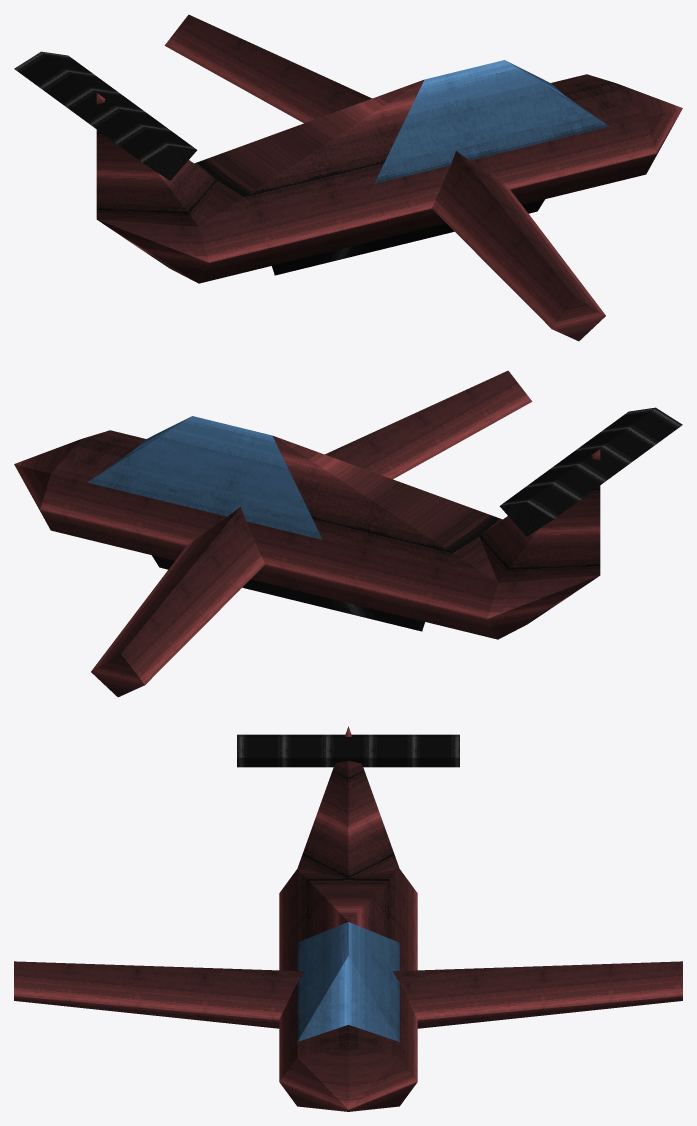
3 renders of one model, top to bottom at view 1: azimuth 30°, elevation 25°; view 2: azimuth 150°, elevation 25°; view 3: azimuth 270°, elevation 25°, orthographic. The views are drawn at different scales.
Visible parts, largest first — view 1: plane1; view 2: plane1; view 3: plane1.
Part boxes in pixels (<box>): plane1: <box>14,14,682,341</box>; plane1: <box>14,370,682,697</box>; plane1: <box>14,726,682,1111</box>.
Bounding box in the file's own units: 1 × 0.3579 × 1.11.
Materials: 3 (3 with a texture image).
